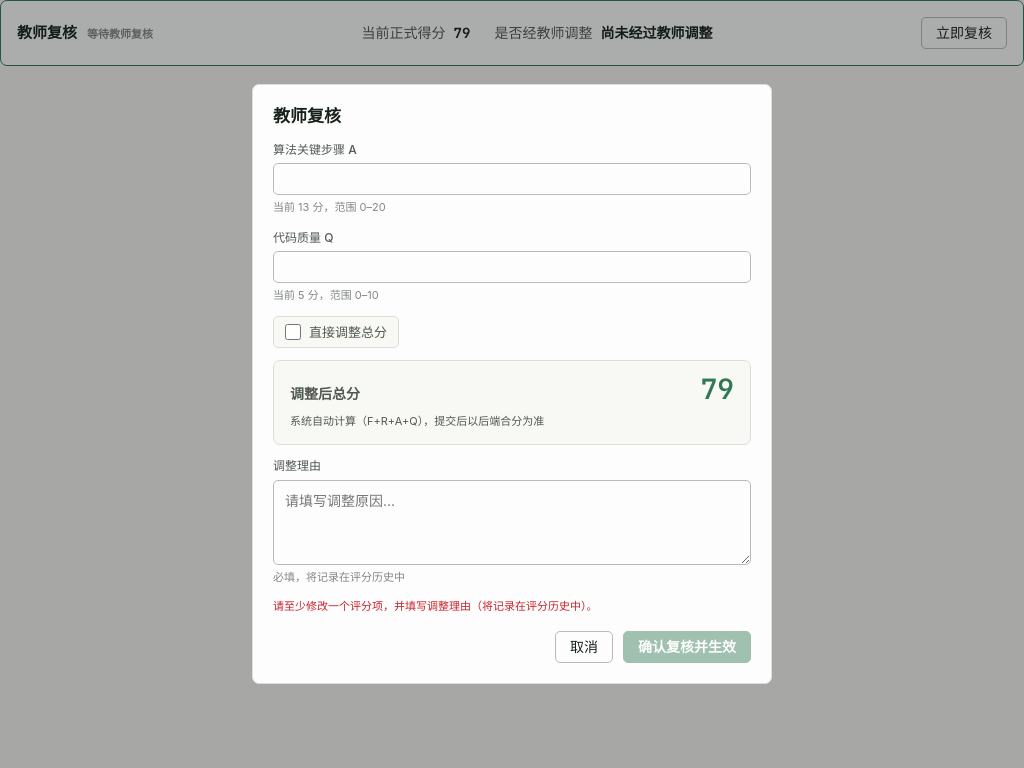
it: TeacherReviewPanel › 理由必填（≥3 字）时按钮禁用并说明原因
Expected: the button with class "review-submit" is disabled, top-left (623, 631), bottom-right (751, 663)
Type "10" into the number field with id "ov-a".
click(512, 180); type("10")  # box top-left (273, 164), bottom-right (751, 196)
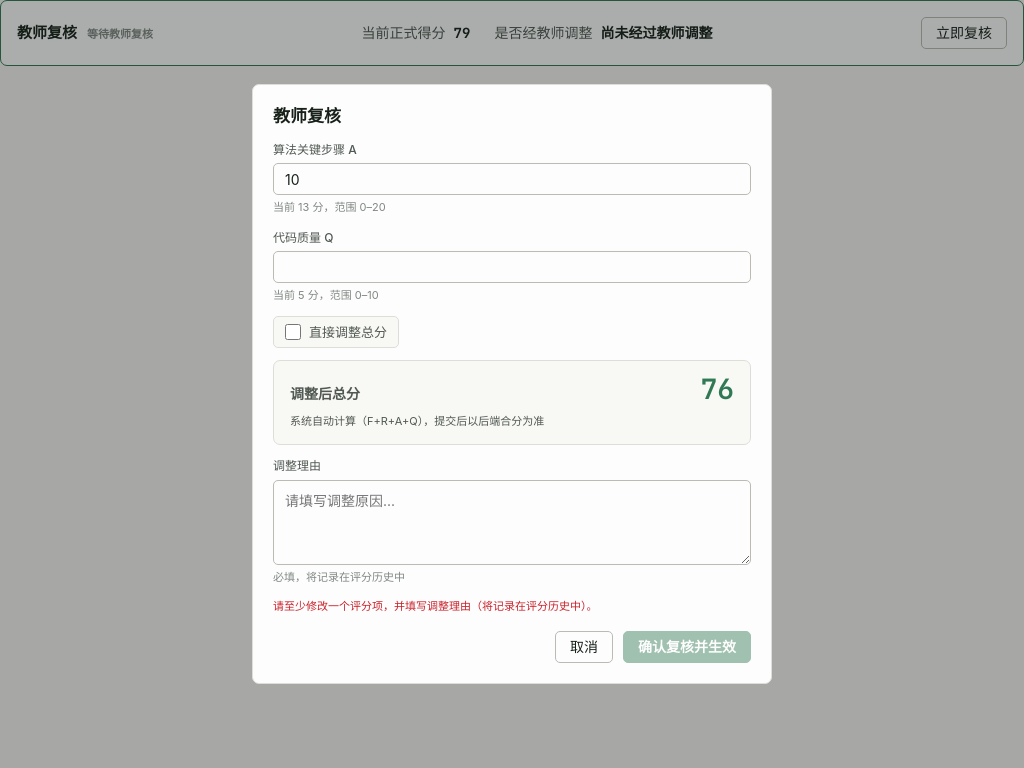
Type "好" into the text box with id "ov-reason".
click(512, 522); type("好")  # box top-left (273, 480), bottom-right (751, 565)
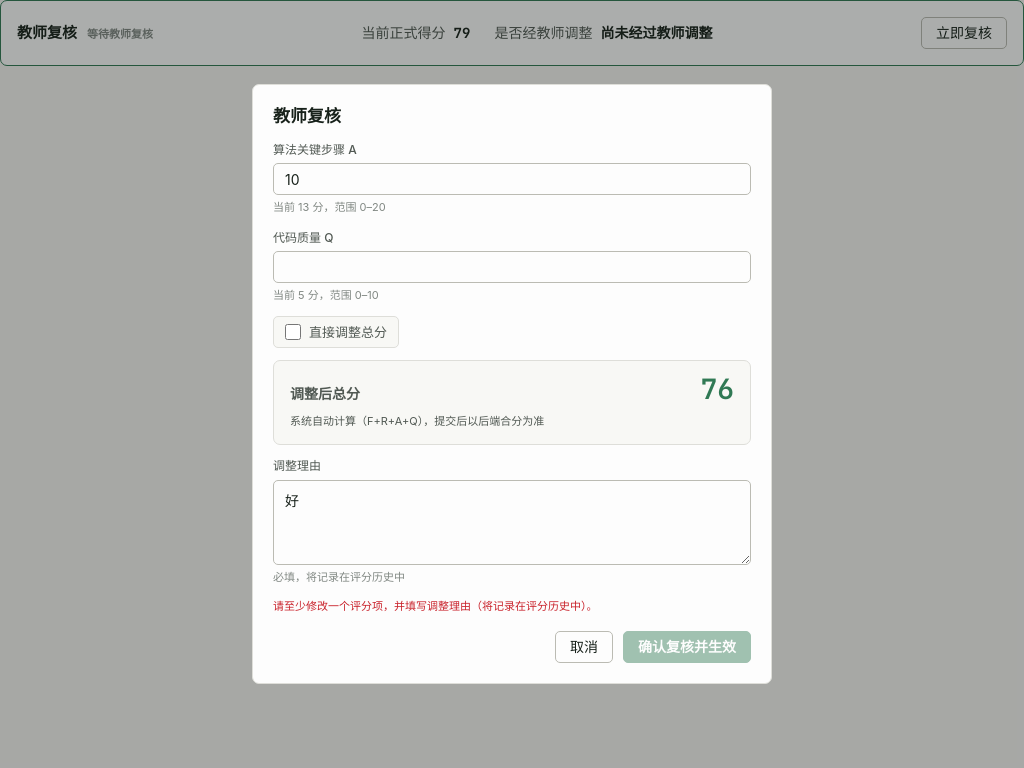
Expected: the button with class "review-submit" is disabled, top-left (623, 631), bottom-right (751, 663)
Replace the text in the text box with id "ov-reason" with "调整理由说明" at (512,522), box top-left (273, 480), bottom-right (751, 565)
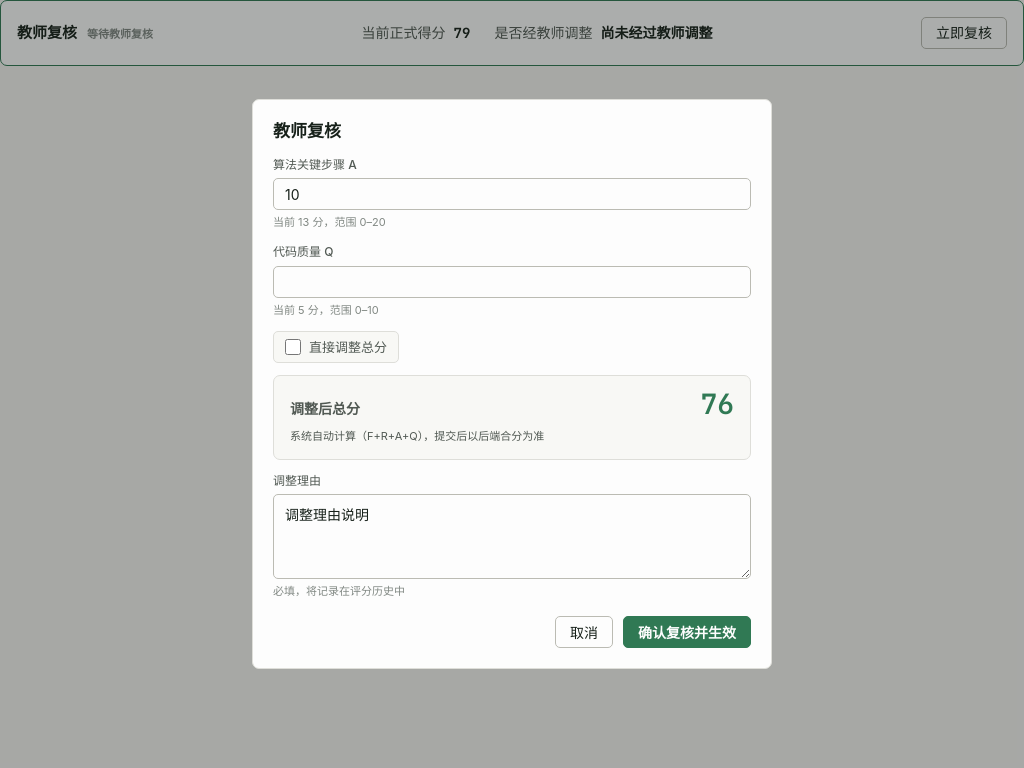
Expected: the button with class "review-submit" is enabled, top-left (623, 616), bottom-right (751, 648)
